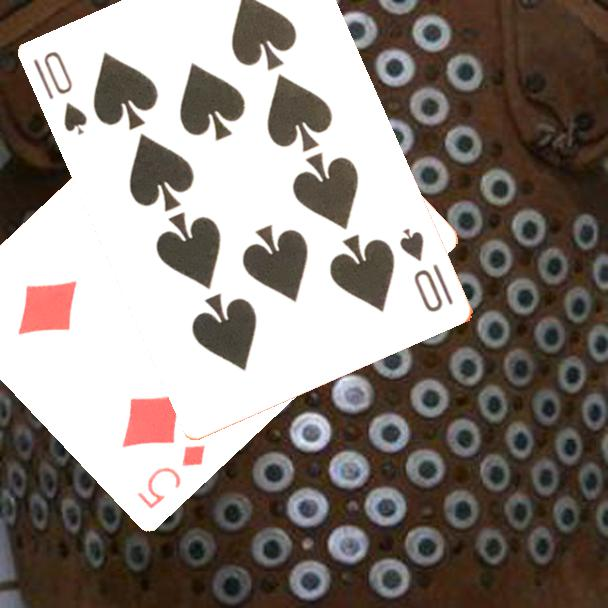d05: (133, 440, 209, 511)
s10: (396, 224, 457, 316), (30, 47, 91, 139)
